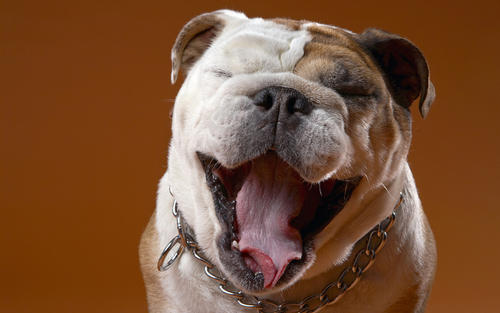dog: (153, 20, 433, 292)
